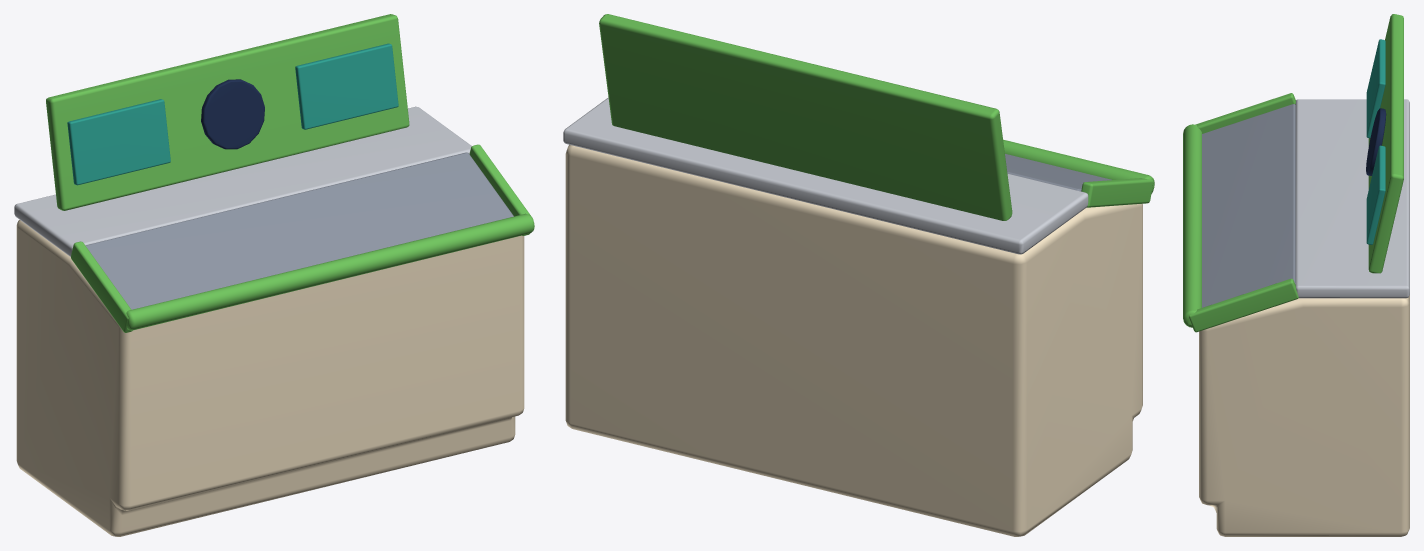
Rendered from Console_LifeSupport.fbx.
3 views of the same model, side by side, from view 1: azimuth 30°, elevation 25°; view 2: azimuth 150°, elevation 25°; view 3: azimuth 270°, elevation 25° (orthographic). The views are drawn at different scales.
Parts seen in each view (by area): view 1: Console_LifeSupport.Body, Console_LifeSupport.Panel, Console_LifeSupport.Board, Console_LifeSupport.Top, Console_LifeSupport.Rim, Console_LifeSupport.Screen_R, Console_LifeSupport.Screen_L, Console_LifeSupport.Icon; view 2: Console_LifeSupport.Body, Console_LifeSupport.Board, Console_LifeSupport.Top, Console_LifeSupport.Rim, Console_LifeSupport.Panel; view 3: Console_LifeSupport.Body, Console_LifeSupport.Top, Console_LifeSupport.Panel, Console_LifeSupport.Rim, Console_LifeSupport.Board, Console_LifeSupport.Screen_R, Console_LifeSupport.Screen_L, Console_LifeSupport.Icon.
Boxes of the visible parts, x1,y1,x2,y2 form: Console_LifeSupport.Body: (16,220,524,536); Console_LifeSupport.Panel: (85,152,513,309); Console_LifeSupport.Board: (46,14,409,210); Console_LifeSupport.Top: (14,106,471,256); Console_LifeSupport.Rim: (71,144,534,332); Console_LifeSupport.Screen_R: (295,43,398,129); Console_LifeSupport.Screen_L: (67,99,170,185); Console_LifeSupport.Icon: (201,79,264,149); Console_LifeSupport.Body: (565,144,1142,536); Console_LifeSupport.Board: (599,14,1012,220); Console_LifeSupport.Top: (563,97,1088,254); Console_LifeSupport.Rim: (1003,139,1154,207); Console_LifeSupport.Panel: (1005,154,1111,191); Console_LifeSupport.Body: (1199,295,1409,536); Console_LifeSupport.Top: (1295,99,1409,298); Console_LifeSupport.Panel: (1202,104,1295,307); Console_LifeSupport.Rim: (1183,93,1298,332); Console_LifeSupport.Board: (1368,14,1403,273); Console_LifeSupport.Screen_R: (1366,145,1385,244); Console_LifeSupport.Screen_L: (1366,39,1385,138); Console_LifeSupport.Icon: (1366,108,1386,175).
Bounding box in the file's own units: 1.29 × 1.11 × 0.6485.
Materials: 1 (1 with a texture image).
